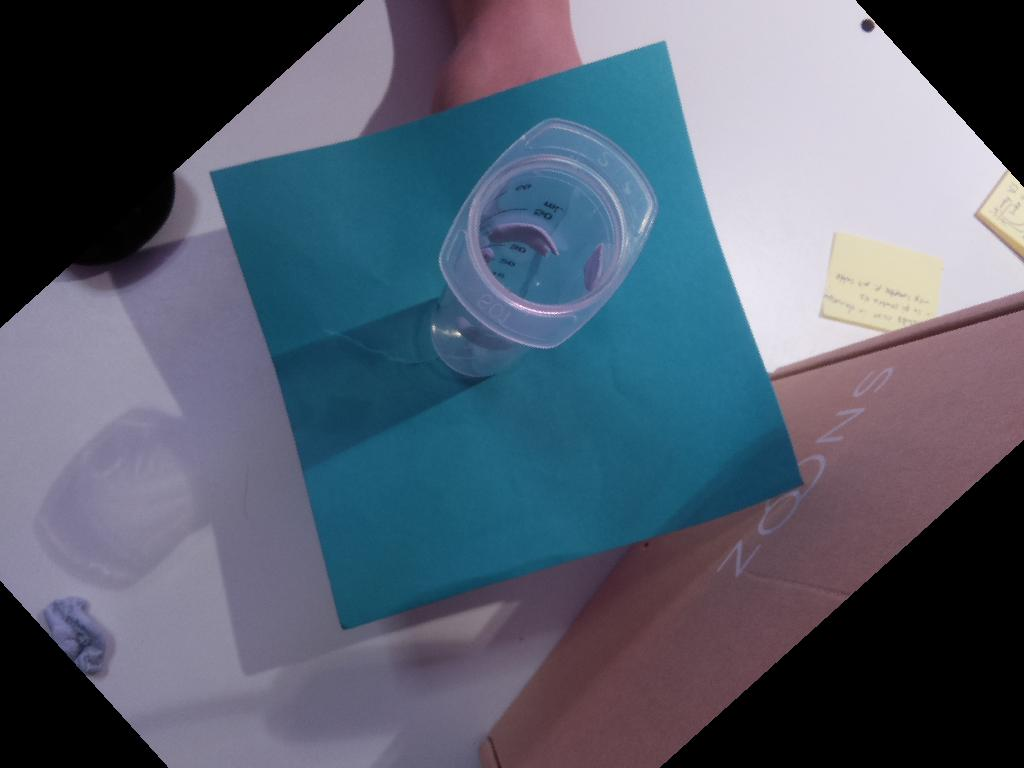dirty: (438, 116, 658, 350)
